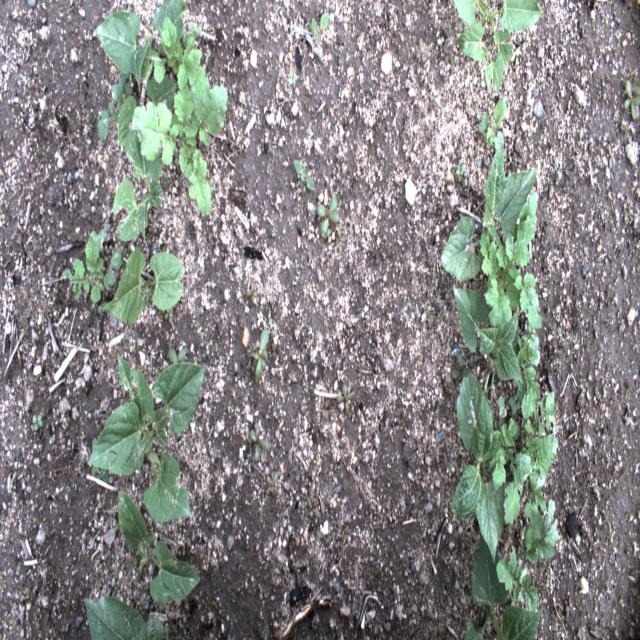crop: (90, 344, 206, 526), (440, 140, 538, 282), (112, 70, 181, 243), (450, 367, 503, 566), (117, 490, 201, 606), (458, 530, 545, 639), (454, 0, 544, 97), (90, 0, 184, 92), (454, 288, 523, 387), (100, 247, 186, 325), (83, 592, 185, 640)
weed: (133, 80, 228, 213), (478, 192, 546, 334), (490, 398, 557, 524), (151, 17, 209, 100), (61, 230, 123, 305), (93, 65, 136, 142), (519, 498, 560, 568), (516, 326, 542, 435), (496, 548, 542, 608), (477, 97, 506, 157), (316, 192, 339, 238), (252, 328, 270, 383), (249, 418, 269, 462), (622, 78, 640, 122), (335, 383, 356, 416), (294, 157, 314, 190), (449, 349, 468, 382), (310, 10, 330, 40), (305, 488, 321, 518), (453, 160, 471, 185), (498, 392, 516, 416), (266, 477, 278, 497), (34, 413, 44, 433), (608, 132, 613, 170), (427, 306, 436, 326), (545, 575, 550, 588), (292, 73, 297, 85)
